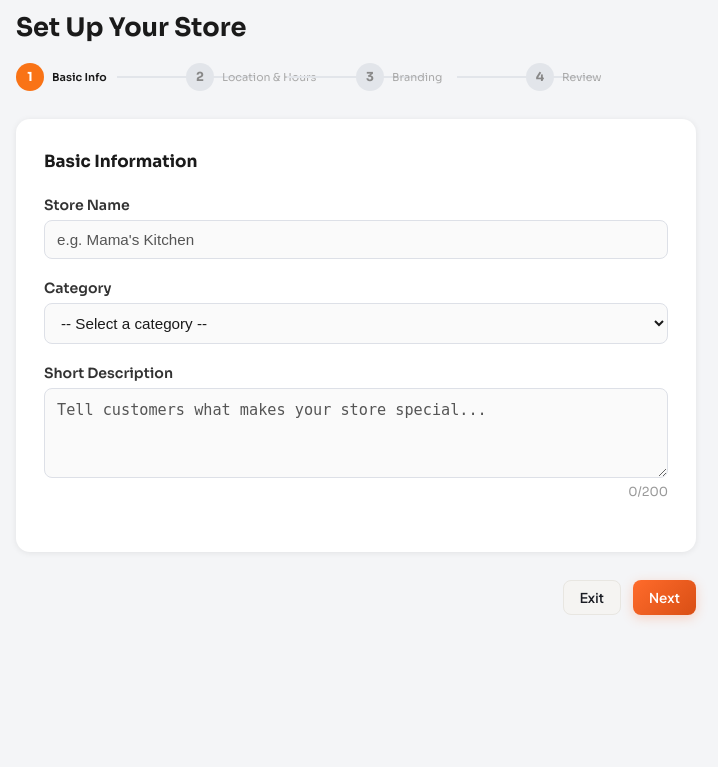
Test: StoreSetup – step 0 validation › clears a validation error after the field is corrected
Click the button "Next" at x=664, y=598, box [633,580,696,615]
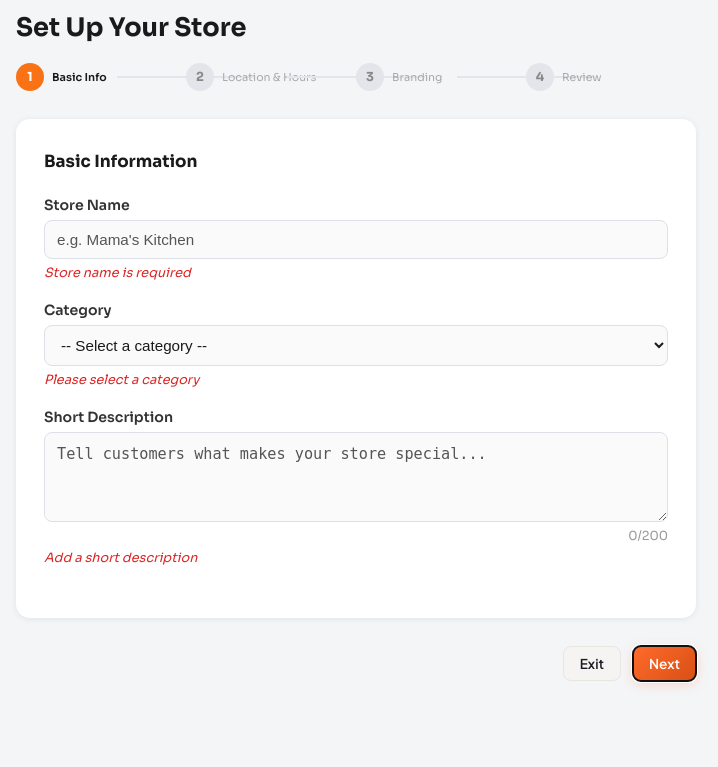
Check: the text "Store name is required" is shown, box [44,265,191,281]
Type "My Store" into the field with placeholder "e.g. Mama's Kitchen" at x=356, y=240, box [44,220,668,259]
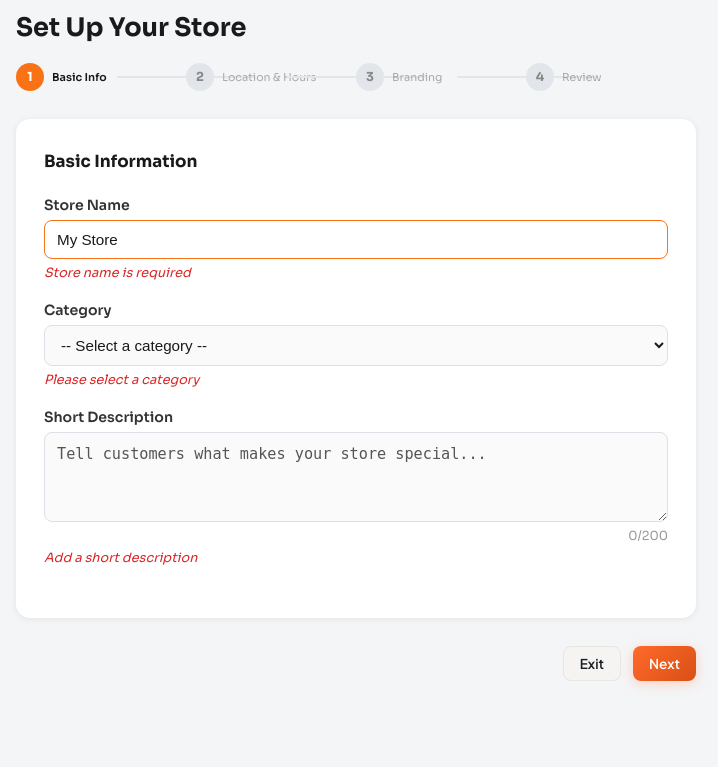
Select "Fast Food" in the dropdown at x=356, y=346, box [44,325,668,366]
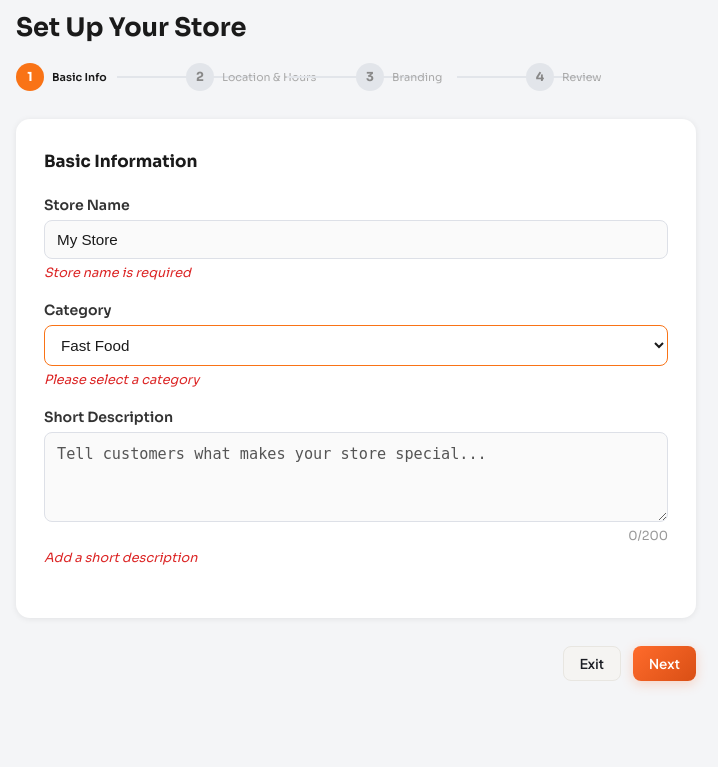
Type "Great food" into the text box with placeholder "Tell customers what makes your store special..." at x=356, y=477, box [44,432,668,522]
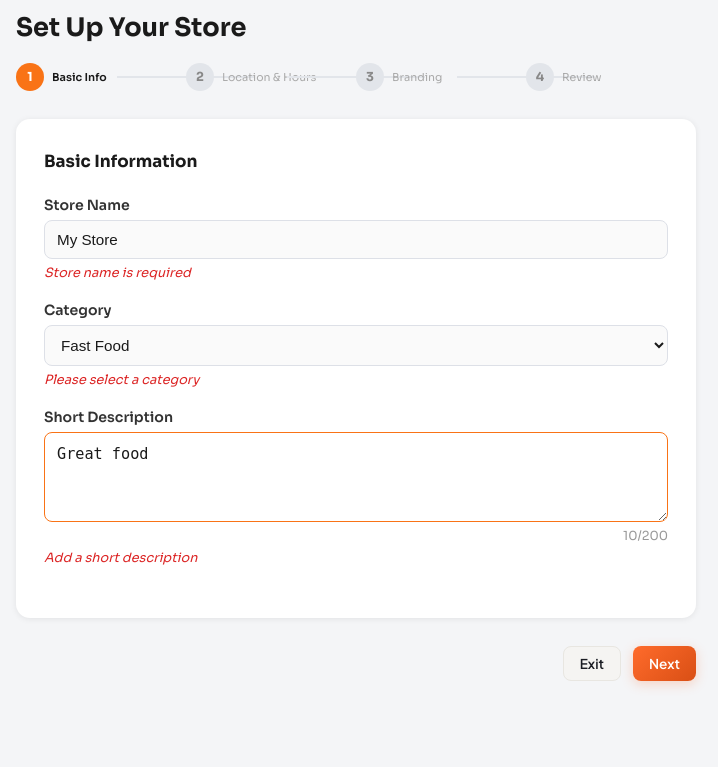
Click the button "Next" at x=664, y=664, box [633,646,696,681]
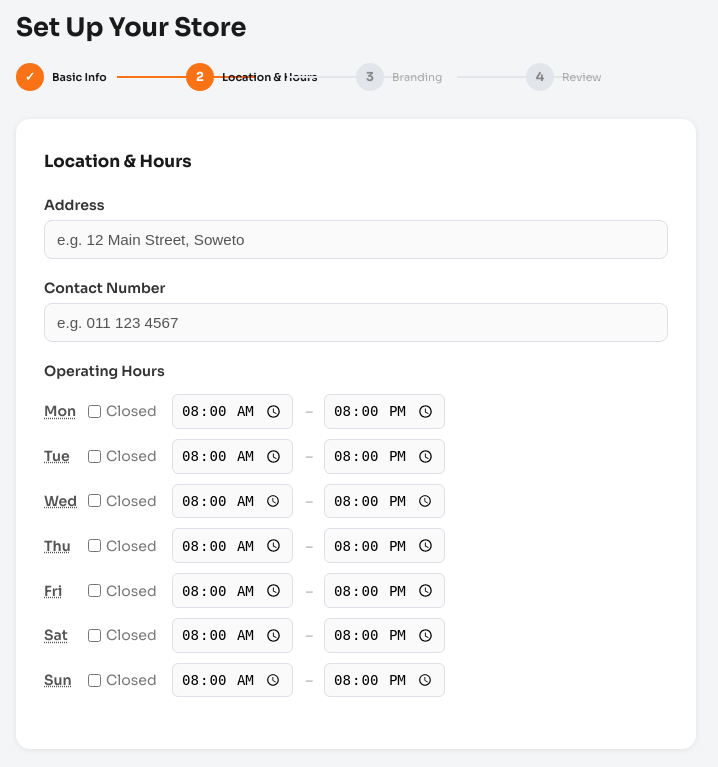
Check: the text "Store name is required" is gone
